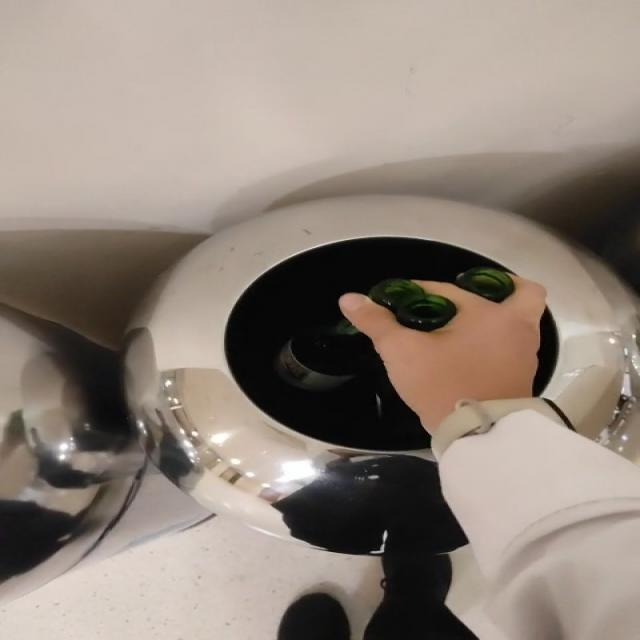bin: (124, 196, 639, 541)
glass: (277, 321, 369, 392), (369, 279, 457, 332), (372, 361, 423, 431), (459, 268, 515, 300)
